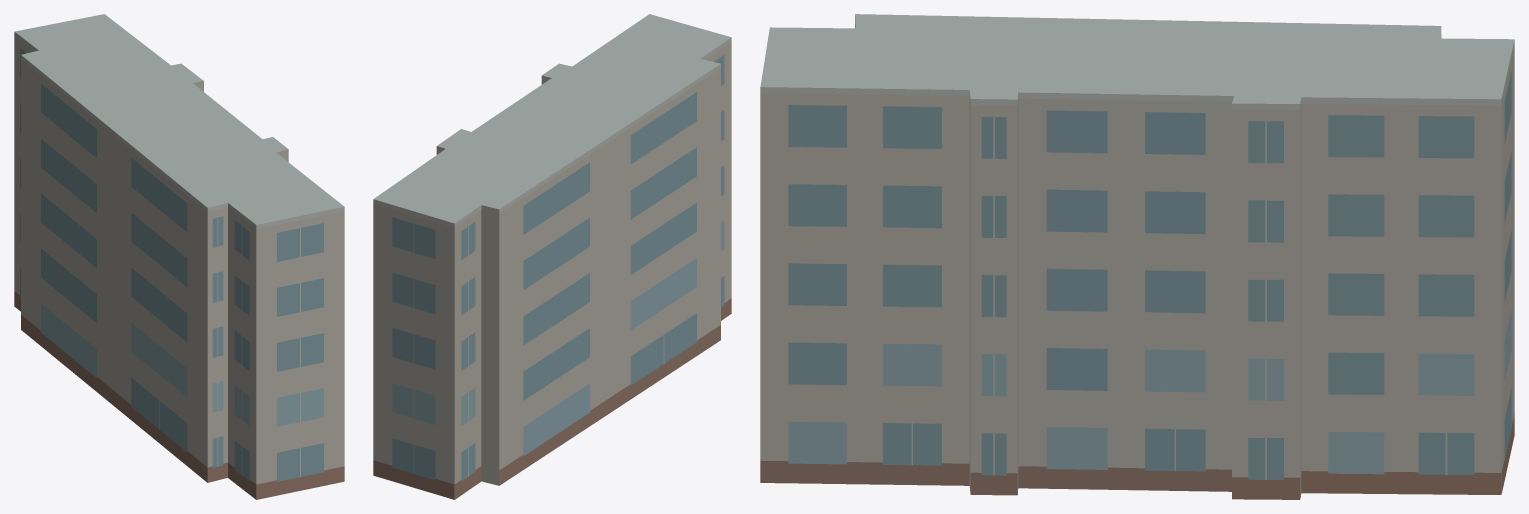
File: survey-upis-32773261.glb
The picture shows the model from 3 angles, left to right: view 1: azimuth 30°, elevation 25°; view 2: azimuth 150°, elevation 25°; view 3: azimuth 270°, elevation 25°; orthographic projection. The views are drawn at different scales.
Parts seen in each view (by area): view 1: survey-upis-32773261.tmp; view 2: survey-upis-32773261.tmp; view 3: survey-upis-32773261.tmp.
Part boxes in pixels (x1,y1,x2,y2): survey-upis-32773261.tmp: [14, 14, 344, 499]; survey-upis-32773261.tmp: [373, 14, 731, 499]; survey-upis-32773261.tmp: [760, 14, 1514, 499].
Bounding box in the file's own units: 7.65 × 15.65 × 27.04.
